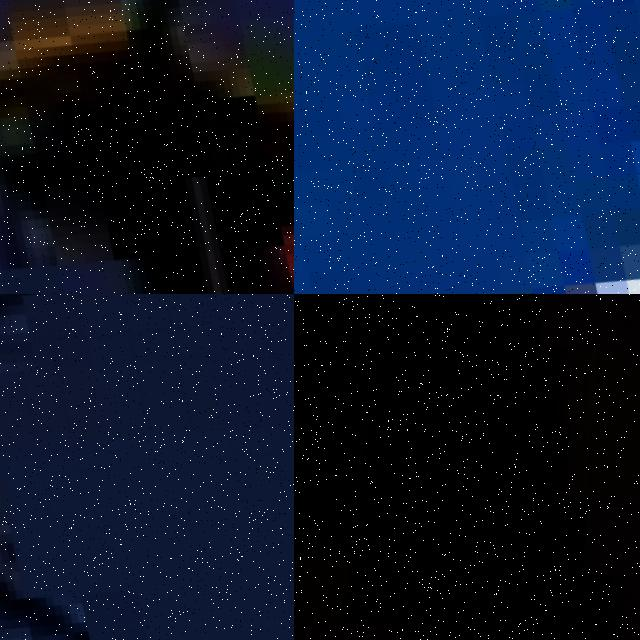0: (0, 294, 294, 640), (0, 0, 294, 294)
drone: (294, 0, 640, 294)
